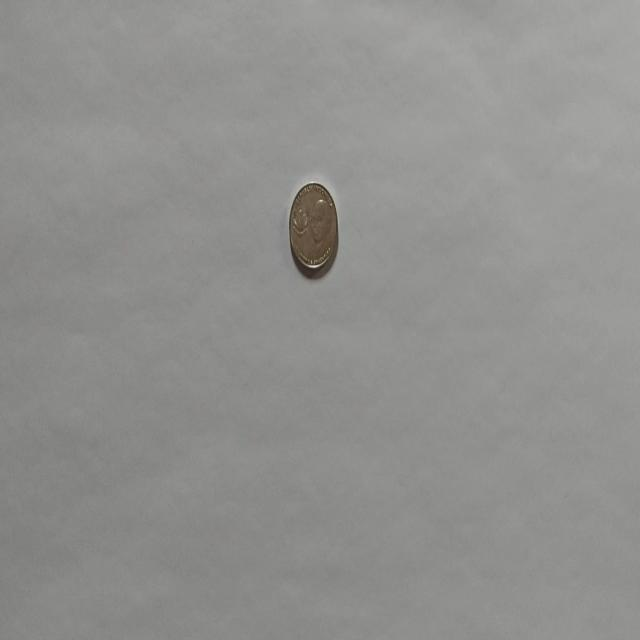lima ratus rupiah: (287, 180, 339, 276)
